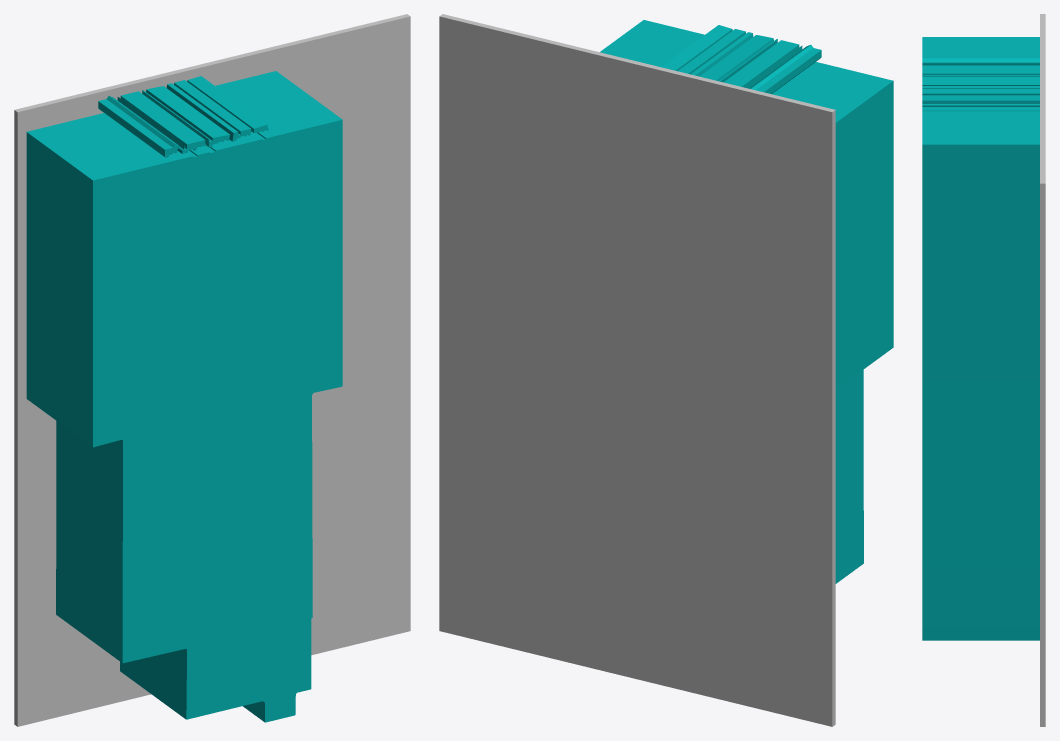
3 views of the same model, side by side, from view 1: azimuth 30°, elevation 25°; view 2: azimuth 150°, elevation 25°; view 3: azimuth 270°, elevation 25° (orthographic). The views are drawn at different scales.
Parts seen in each view (by area): view 1: world; view 2: world; view 3: world.
Part boxes in pixels (x1,y1,x2,y2): world: (14, 14, 410, 726); world: (439, 14, 893, 726); world: (922, 14, 1045, 726).
Bounding box in the file's own units: 10.23 × 15.29 × 3.15.
